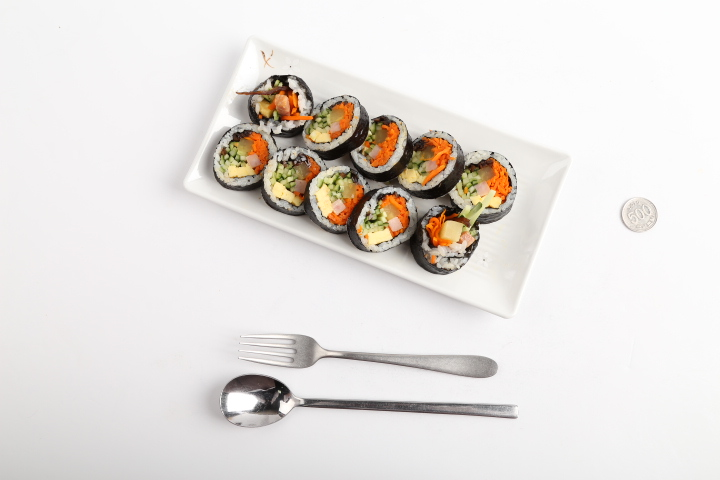dish: (182, 37, 570, 319)
ref_coin: (621, 197, 658, 231)
ref_fork: (238, 334, 328, 369)
ref_spoon: (220, 374, 305, 428)
김밥: (213, 73, 518, 275)
